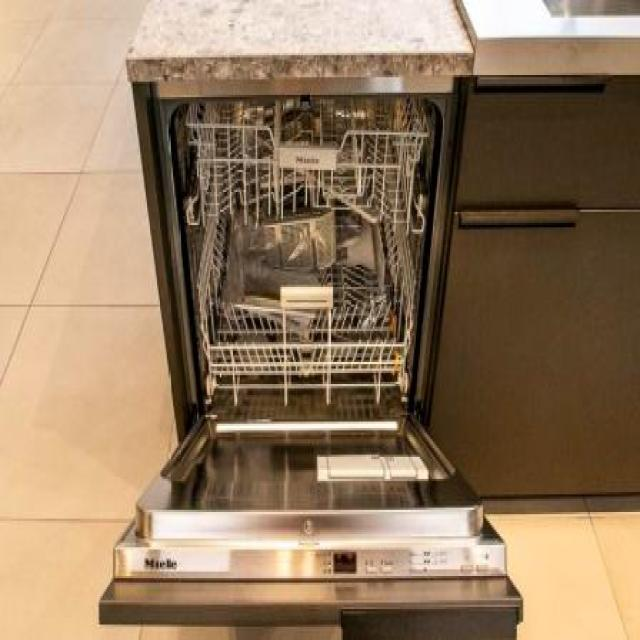dishwasher: (99, 77, 522, 638)
